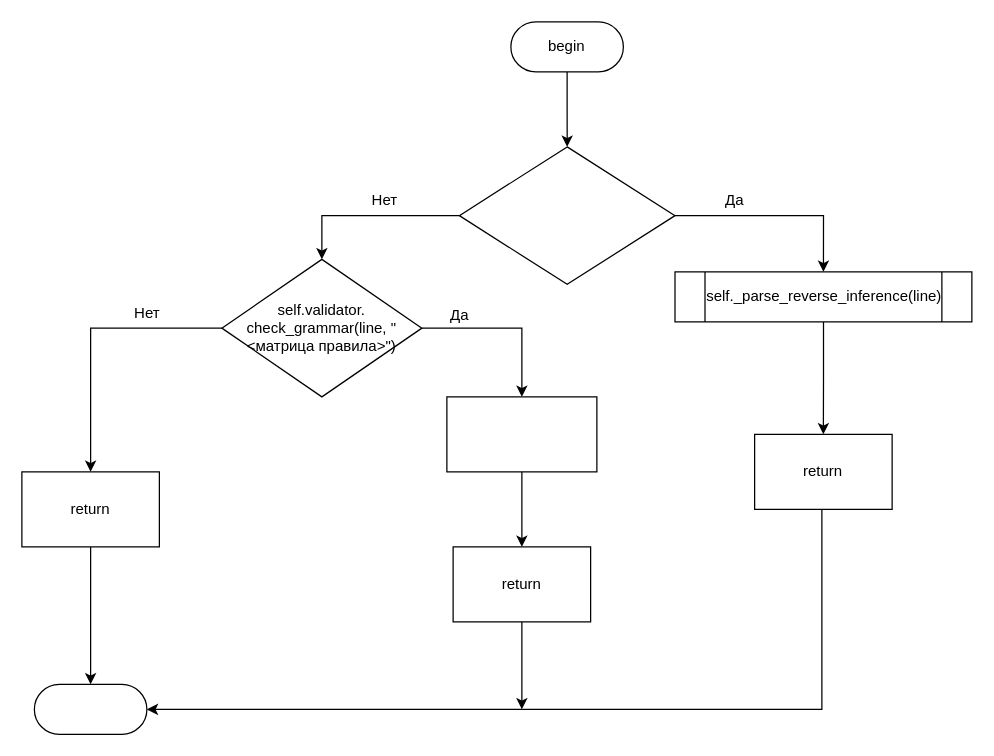
This 994x756 diagram has some shape labels left out. The centre of each missing label's shape, as x and y in pixels:
end: (90,708)
self. _parse_matrix(line): (521,434)
self.validator. check_grammar(line, "<обратный вывод>"): (566,215)
